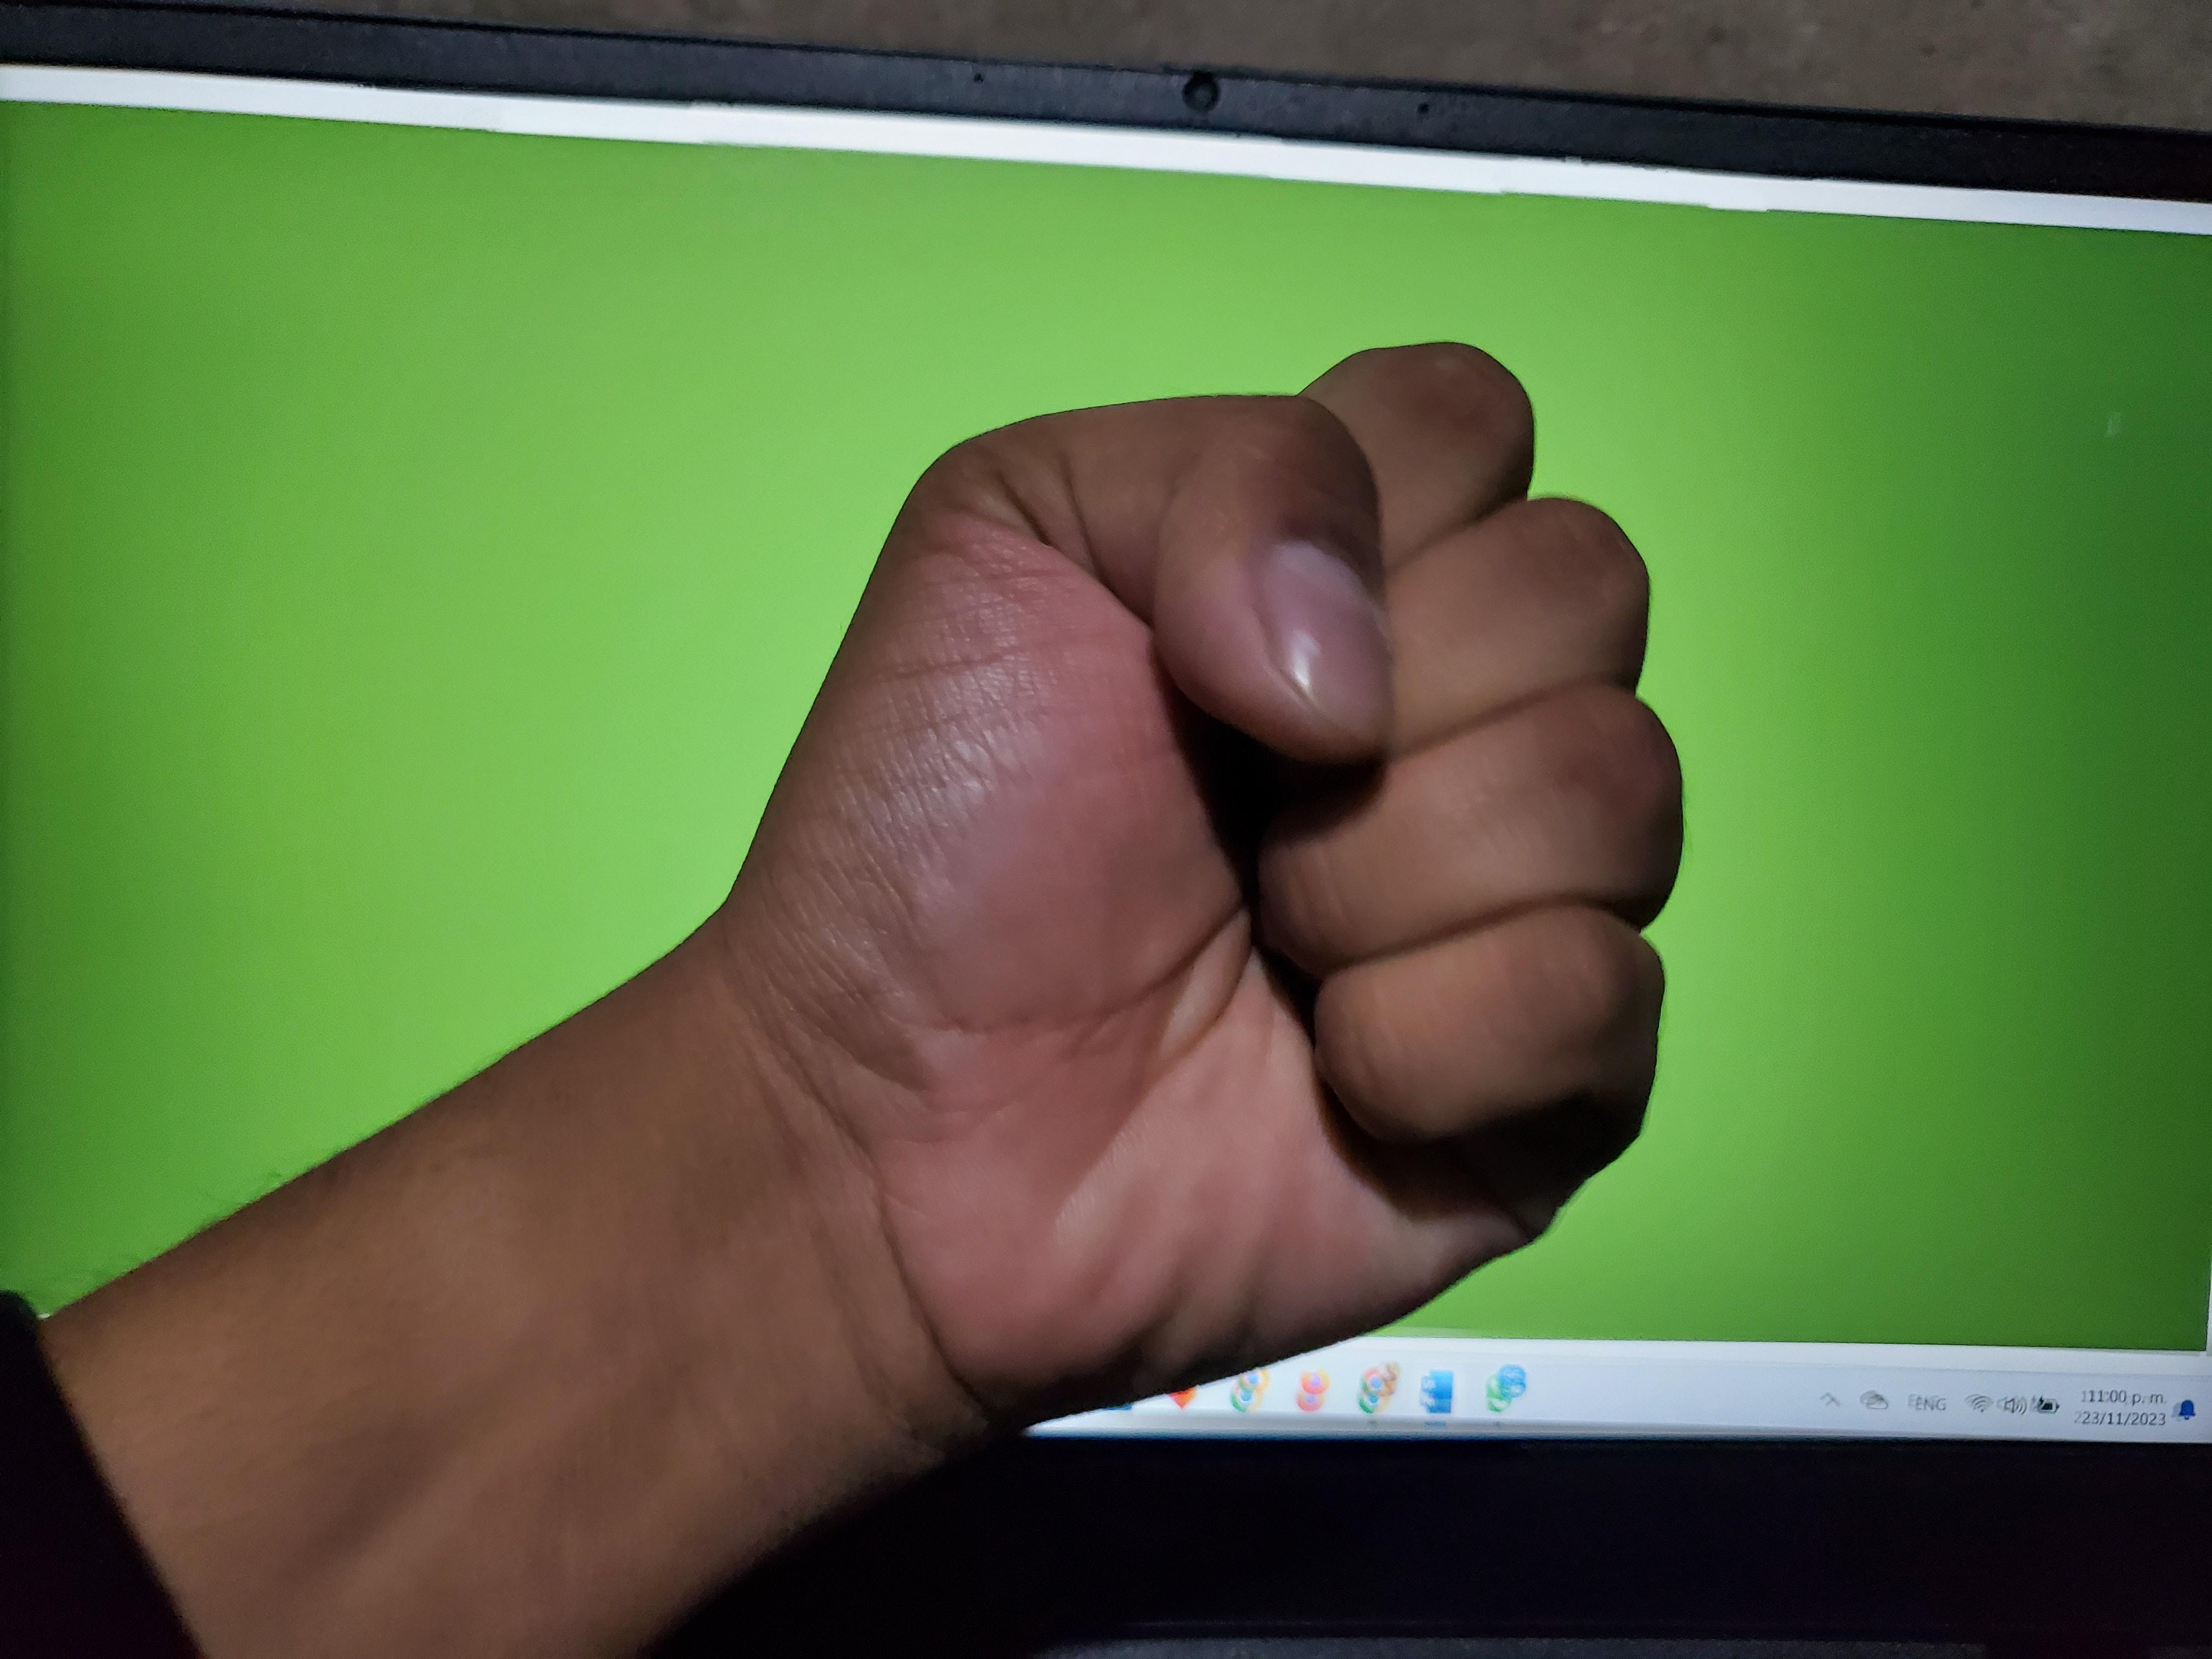Stone: (364, 275, 2094, 1601)
